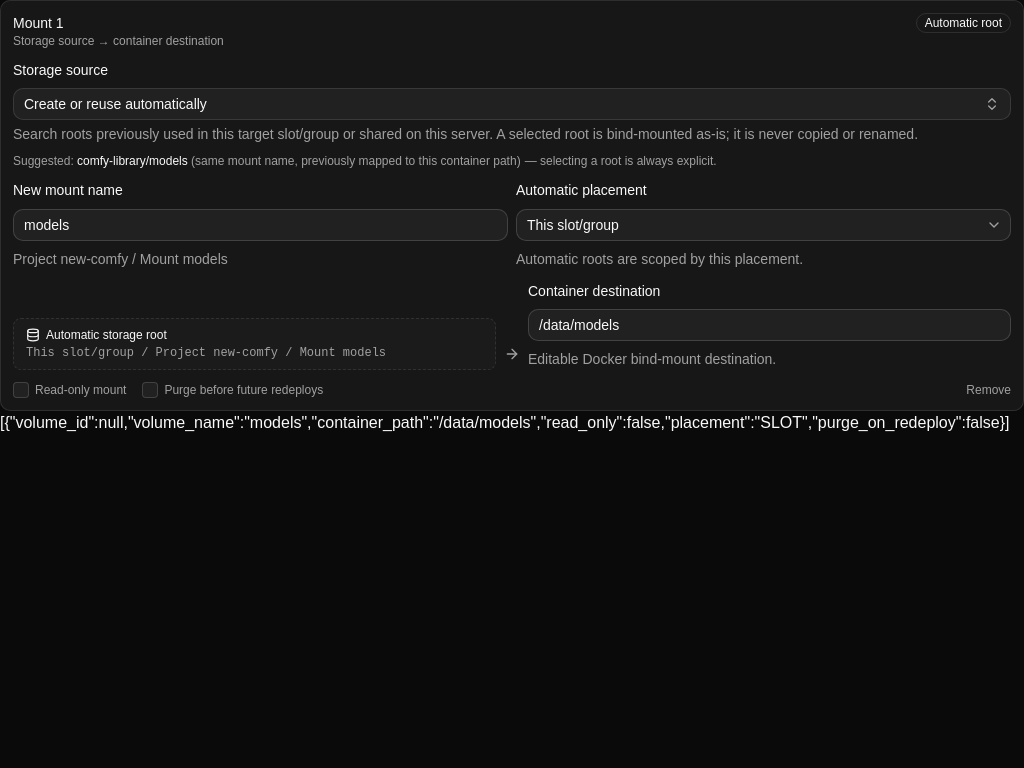
Test: persistent mount mapping (light theme) › ranks likely compatible roots without selecting one
Check: the text "Suggested:" shows "comfy-library/models (same mount name, previously mapped to this container path)", box left=13, top=154, right=717, bottom=168
Check: the text with test id "mount-values" shows "\"volume_id\":null", box left=0, top=414, right=1010, bottom=431
What coordinates should you click on to do the following:
click the dropdown named "Storage source for mount 1"
I would click on:
 (115, 104)
Its box is left=13, top=88, right=1011, bottom=120.
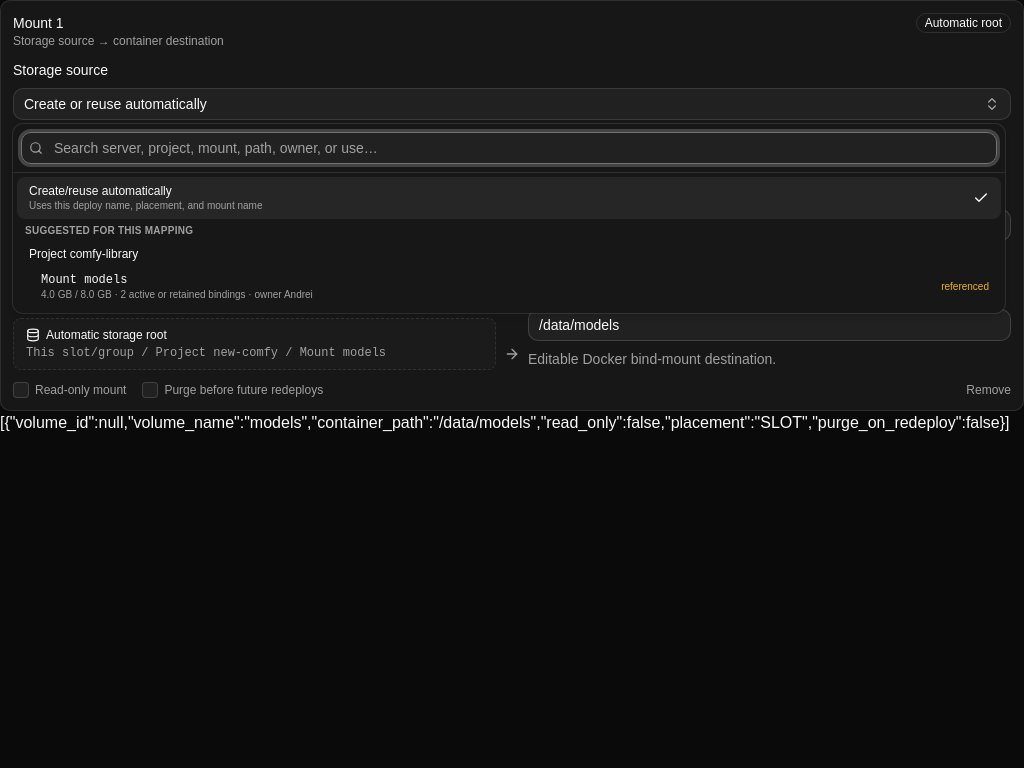
Check: the text "Suggested for this mapping" is shown, box left=25, top=225, right=193, bottom=236
